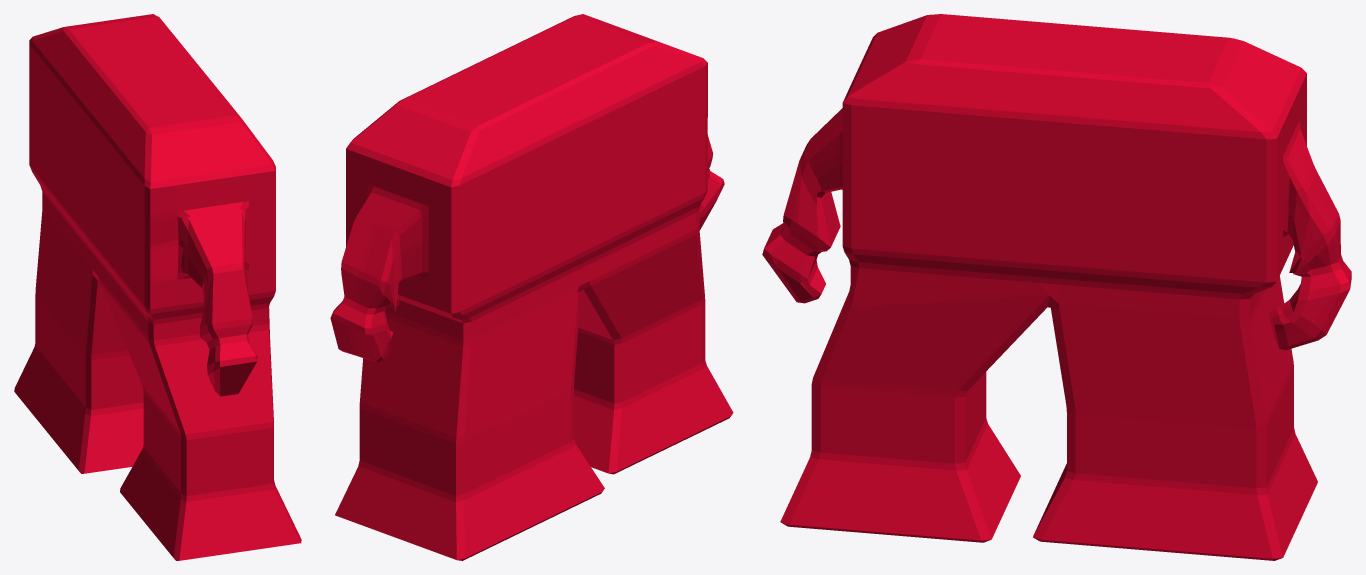
File: Gerrele.fbx
3 views of the same model, side by side, from view 1: azimuth 30°, elevation 25°; view 2: azimuth 150°, elevation 25°; view 3: azimuth 270°, elevation 25° (orthographic). The views are drawn at different scales.
Visible parts, largest first — view 1: Jerrele; view 2: Jerrele; view 3: Jerrele.
Boxes of the visible parts, x1=… form: Jerrele: x1=14, y1=14, x2=301, y2=560; Jerrele: x1=330, y1=14, x2=733, y2=560; Jerrele: x1=762, y1=14, x2=1351, y2=560.
Size of the model in its own units: 335 by 672 by 776.
